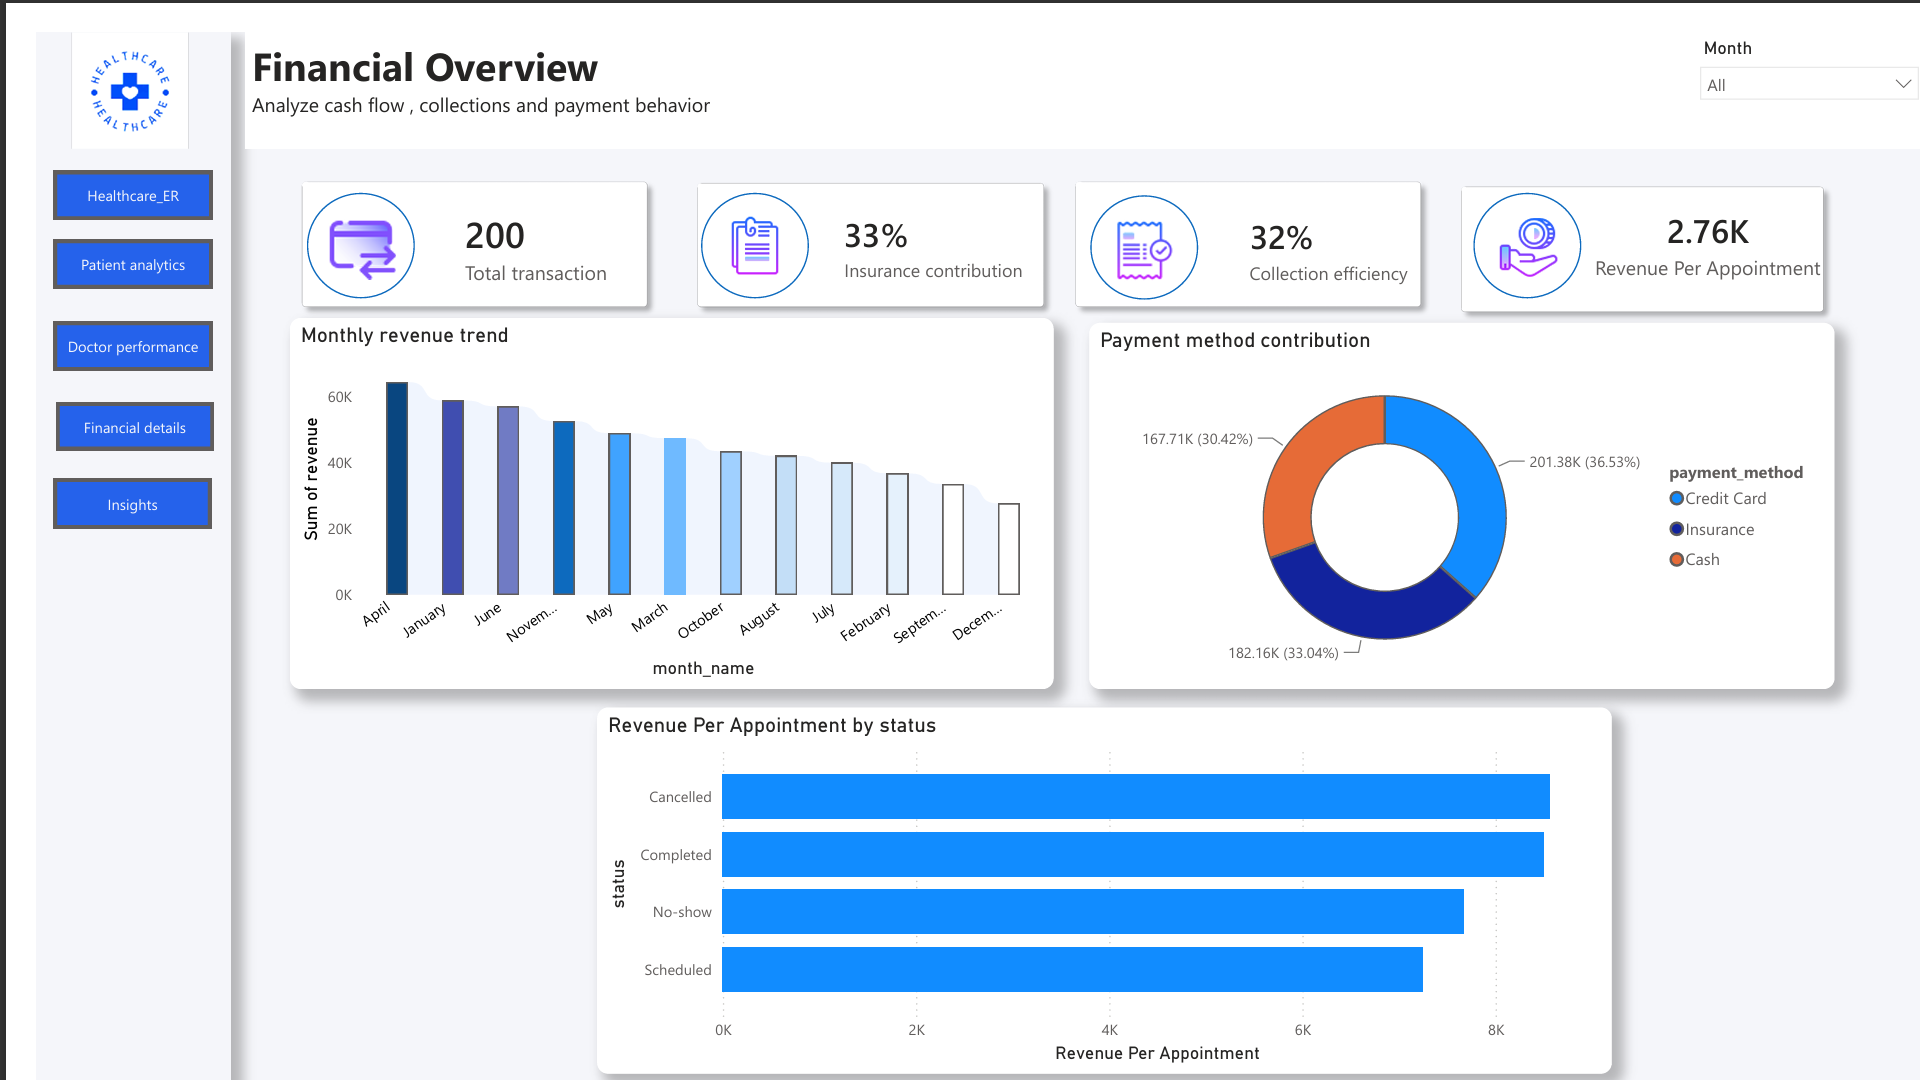

What the dashboard file says about the page in this screenshot:
{"tool":"powerbi","page":{"name":"Financial details","canvas":[1548,863],"ordinal":3},"visuals":[{"type":"shape","title":"Healthcare analytics","box":[0,0,159.3,863],"z":0},{"type":"image","box":[8.4,0,136.3,95.3],"z":1000},{"type":"actionButton","box":[14.5,168.9,129.1,39.8],"z":2000},{"type":"actionButton","box":[14.5,236.5,129.1,39.8],"z":3000},{"type":"actionButton","box":[15.7,301.6,129.1,39.8],"z":4000},{"type":"textbox","box":[170.6,0,1378.1,95.4],"z":5000},{"type":"slicer","fields":{"Values":["monthly_rev.month_name"]},"box":[1348.6,0,199.7,63.3],"z":6000},{"type":"shape","box":[207.5,113.4,300.4,119.4],"z":7000},{"type":"shape","box":[531,113.8,300.7,119.2],"z":8000},{"type":"shape","box":[839.7,113.4,300.4,119.4],"z":9000},{"type":"shape","box":[1155.4,117.1,313.8,120],"z":10000},{"type":"shape","box":[220.8,131.4,88,85.3],"z":11000},{"type":"shape","box":[543.1,131.4,88,85.3],"z":12000},{"type":"shape","box":[861.4,132.7,88,85.3],"z":13000},{"type":"shape","box":[1174.3,131.4,88,85.3],"z":14000},{"type":"image","box":[1190.1,143.2,57.8,65.1],"z":15000},{"type":"image","box":[558,140.9,58.2,65],"z":16000},{"type":"cardVisual","fields":{"Data":["billing.total revenue"]},"box":[319.7,127.3,174.7,92.1],"z":17000},{"type":"cardVisual","fields":{"Data":["billing.Total transaction"]},"box":[321,128.7,174.7,92.1],"z":18000},{"type":"cardVisual","fields":{"Data":["appointments.Revenue Per Appointment"]},"box":[1229.1,124.4,273.3,96.9],"z":19000},{"type":"cardVisual","fields":{"Data":["billing.Collection efficiency %"]},"box":[961.6,130.1,193.8,94],"z":20000},{"type":"cardVisual","fields":{"Data":["billing.Insurance contribution %"]},"box":[631.2,123.3,253.3,104.3],"z":21000},{"type":"ribbonChart","title":"Monthly revenue trend","fields":{"Category":["monthly_rev.month_name"],"Y":["Sum(monthly_rev.revenue)"]},"box":[206.8,232.8,624.7,303.7],"z":22000},{"type":"donutChart","title":"Payment method contribution","fields":{"Category":["billing.payment_method"],"Y":["billing.total revenue"]},"box":[860.4,237.2,608.8,299.3],"z":23000},{"type":"clusteredBarChart","fields":{"Category":["appointments.status"],"Y":["appointments.Revenue Per Appointment"]},"box":[458.4,550.9,828.6,299.3],"z":24000},{"type":"actionButton","title":"Executive dashboard","box":[14.5,113.4,129.1,39.8],"z":25000},{"type":"image","box":[235.7,140.3,57.8,65.1],"z":26000},{"type":"image","box":[876.3,144.6,57.8,65.1],"z":27000},{"type":"actionButton","box":[14.5,364.4,128.7,40.5],"z":28000}]}

Visuals, with their boxes in screenshot pixels (x1, y1, x2, y2), scaled from the page's 1548x863 canvas onto the 1920x1080 screenshot:
"Healthcare analytics" shape: <region>0, 0, 198, 1079</region>
image: <region>10, 0, 179, 119</region>
actionButton: <region>18, 211, 178, 261</region>
actionButton: <region>18, 296, 178, 346</region>
actionButton: <region>19, 377, 180, 427</region>
textbox: <region>212, 0, 1919, 119</region>
slicer - monthly_rev.month_name: <region>1673, 0, 1919, 79</region>
shape: <region>257, 142, 630, 291</region>
shape: <region>659, 142, 1032, 292</region>
shape: <region>1041, 142, 1414, 291</region>
shape: <region>1433, 147, 1822, 297</region>
shape: <region>274, 164, 383, 271</region>
shape: <region>674, 164, 783, 271</region>
shape: <region>1068, 166, 1178, 273</region>
shape: <region>1456, 164, 1566, 271</region>
image: <region>1476, 179, 1548, 261</region>
image: <region>692, 176, 764, 258</region>
cardVisual - billing.total revenue: <region>397, 159, 613, 275</region>
cardVisual - billing.Total transaction: <region>398, 161, 615, 276</region>
cardVisual - appointments.Revenue Per Appointment: <region>1524, 156, 1863, 277</region>
cardVisual - billing.Collection efficiency %: <region>1193, 163, 1433, 280</region>
cardVisual - billing.Insurance contribution %: <region>783, 154, 1097, 285</region>
"Monthly revenue trend" ribbonChart: <region>256, 291, 1031, 671</region>
"Payment method contribution" donutChart: <region>1067, 297, 1822, 671</region>
clusteredBarChart - appointments.status x appointments.Revenue Per Appointment: <region>569, 689, 1596, 1064</region>
"Executive dashboard" actionButton: <region>18, 142, 178, 192</region>
image: <region>292, 176, 364, 257</region>
image: <region>1087, 181, 1159, 262</region>
actionButton: <region>18, 456, 178, 507</region>
